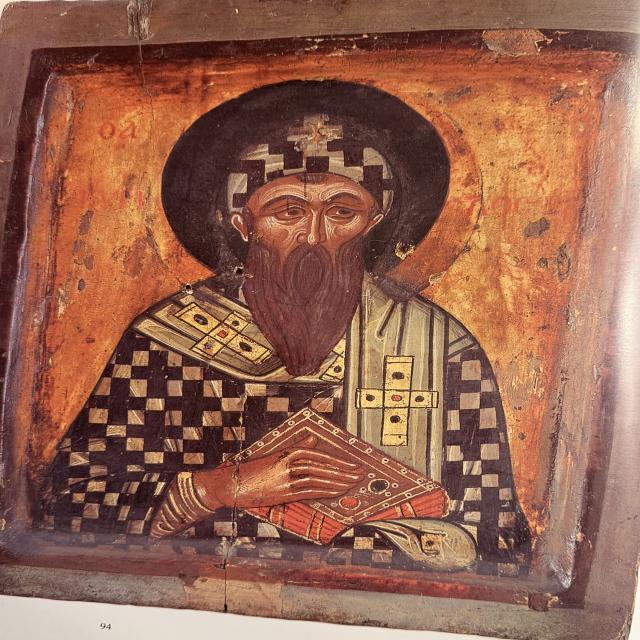aura: (162, 78, 457, 279)
book: (211, 405, 456, 559)
church_father: (45, 72, 533, 574)
